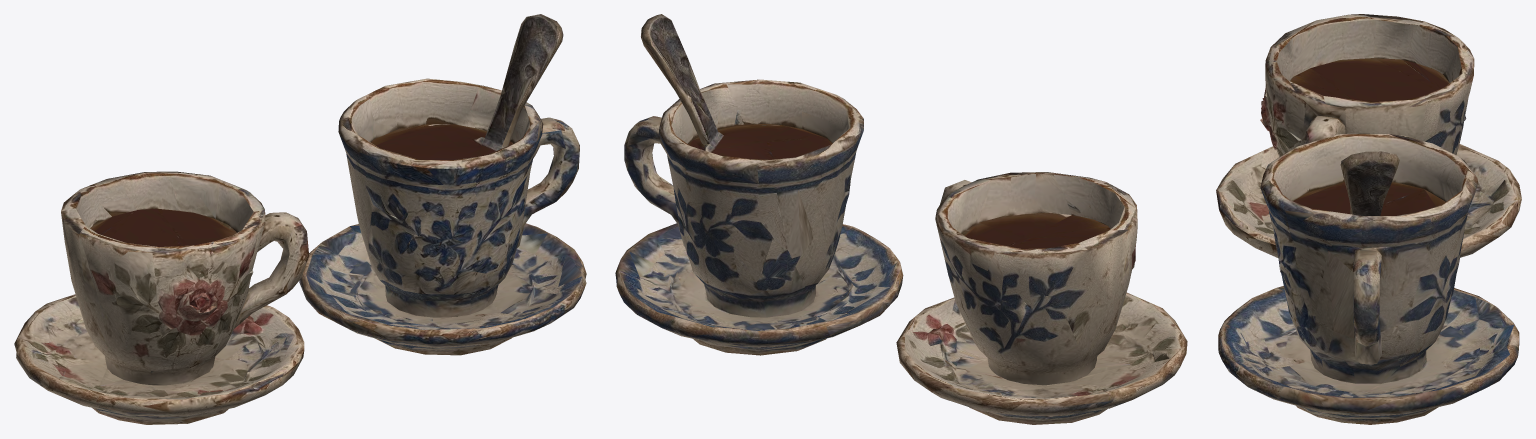
Rendered from k_cups.glb.
3 renders of one model, left to right at view 1: azimuth 30°, elevation 25°; view 2: azimuth 150°, elevation 25°; view 3: azimuth 270°, elevation 25°, orthographic. The views are drawn at different scales.
Visible parts, largest first — view 1: k_cups; view 2: k_cups; view 3: k_cups.
Boxes of the visible parts, x1,y1,x2,y2 form: k_cups: [14, 14, 586, 424]; k_cups: [615, 14, 1187, 424]; k_cups: [1216, 14, 1521, 424].
Size of the model in its own units: 0.2437 by 0.12 by 0.1136.
1 material, 1 textured.
